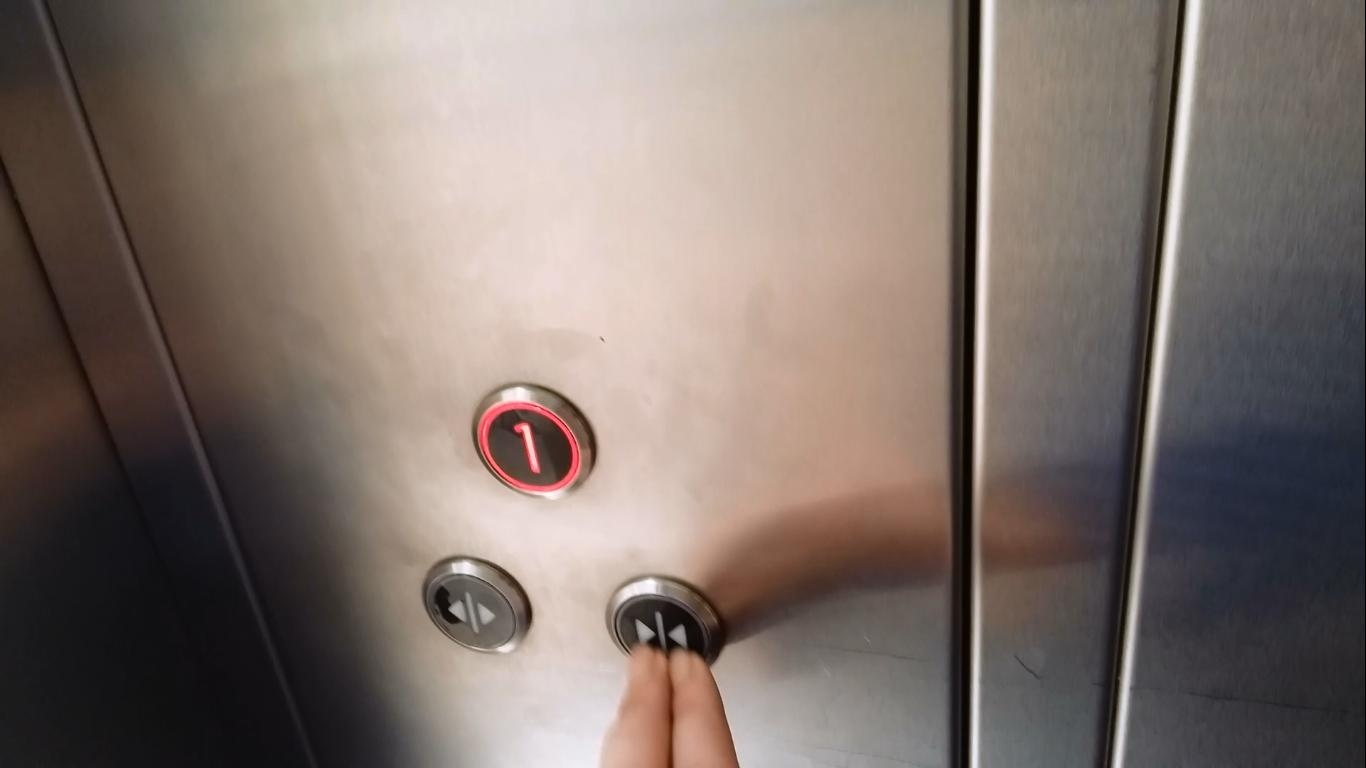1: (464, 379, 602, 505)
close: (604, 571, 728, 674)
open: (421, 554, 537, 665)
